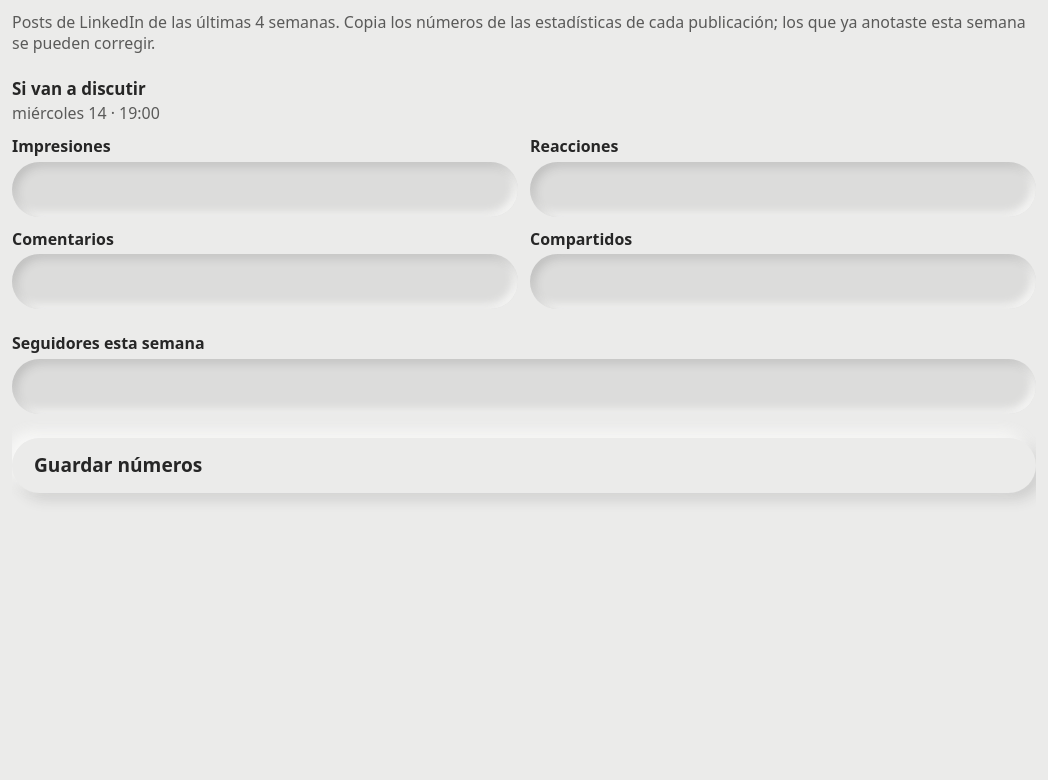
Test: NumerosDeLinkedin › does not send a half-filled post and says which one
In the field named "Impresiones de Si van a discutir": [265, 189] box [12, 162, 518, 217], type "5"
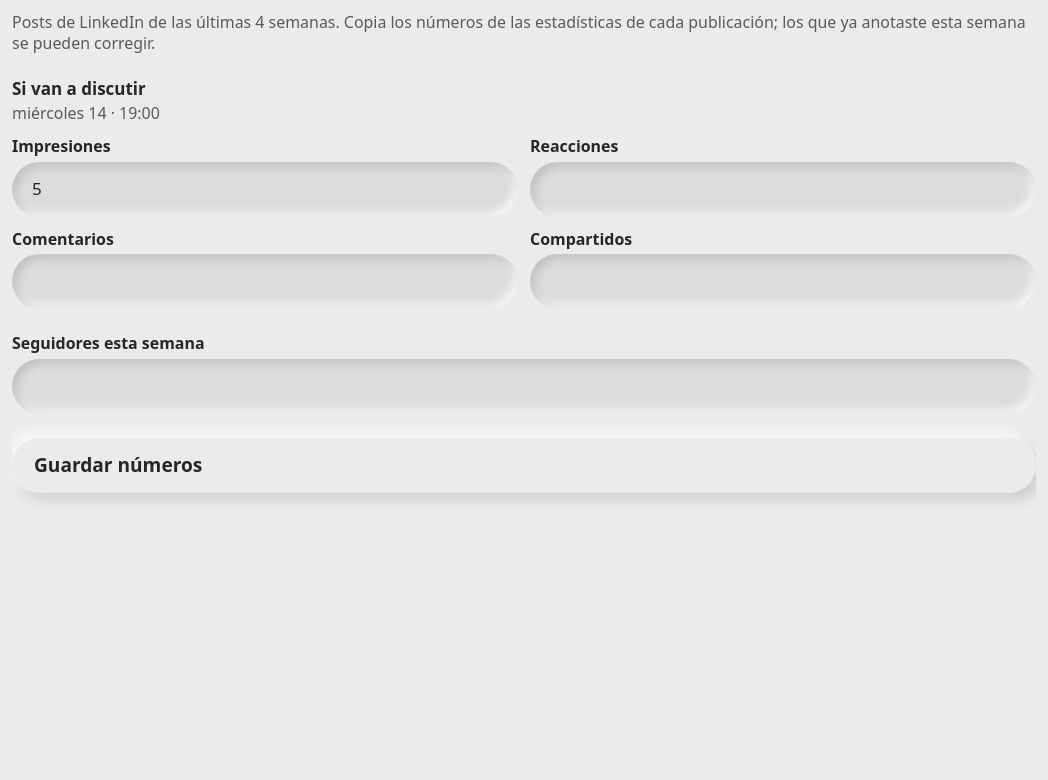
Click the button "Guardar números": [118, 465] box [12, 438, 1036, 493]
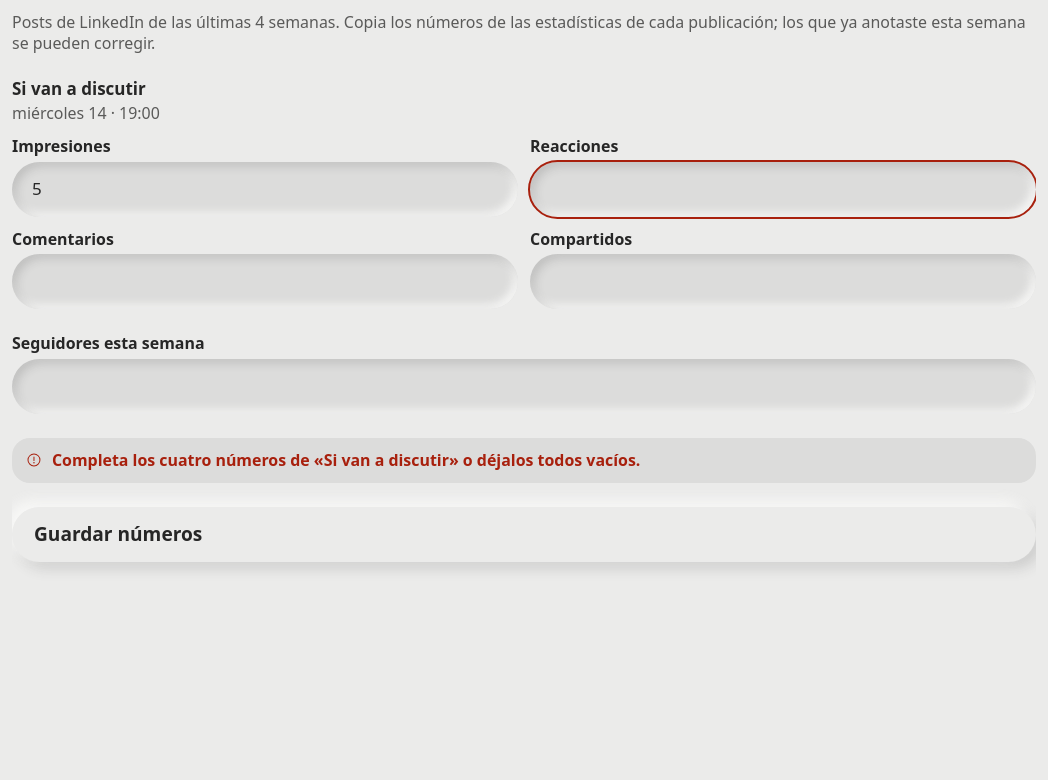
Result: the message reads "Completa los cuatro números de «Si van a discutir» o déjalos todos vacíos." at [52, 449, 640, 471]
